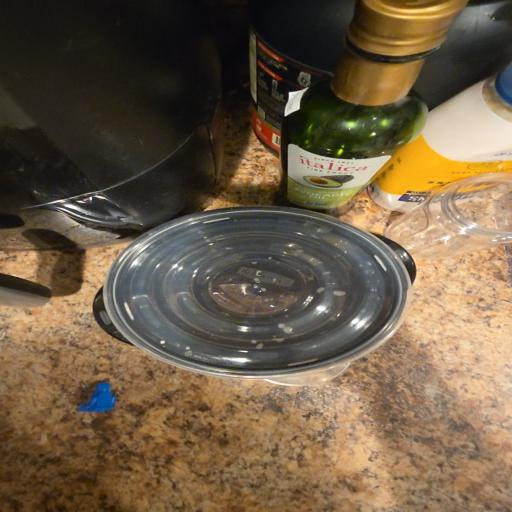Blue: (79, 382, 115, 411)
